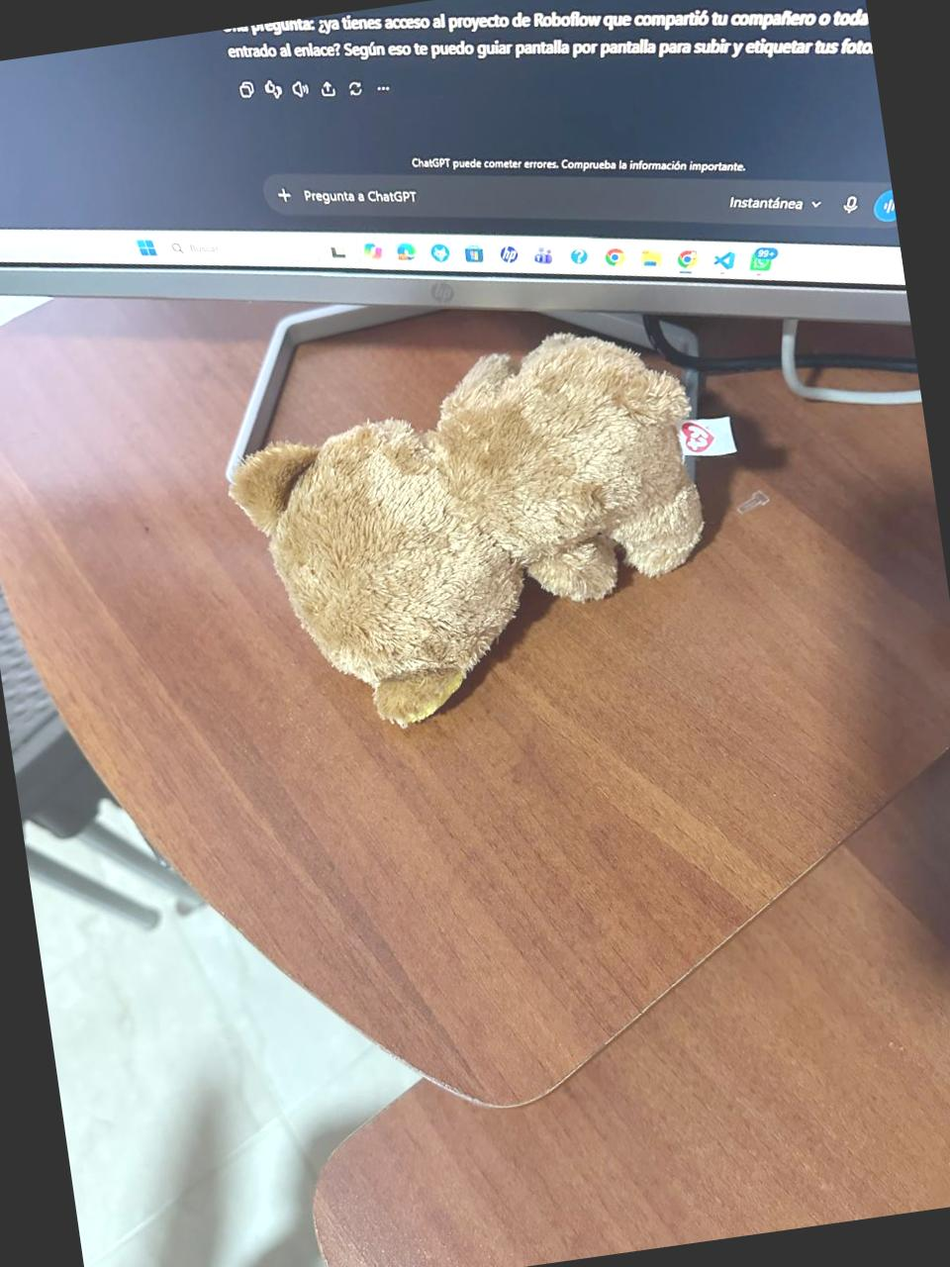peluche_sebastian: (218, 302, 768, 747)
